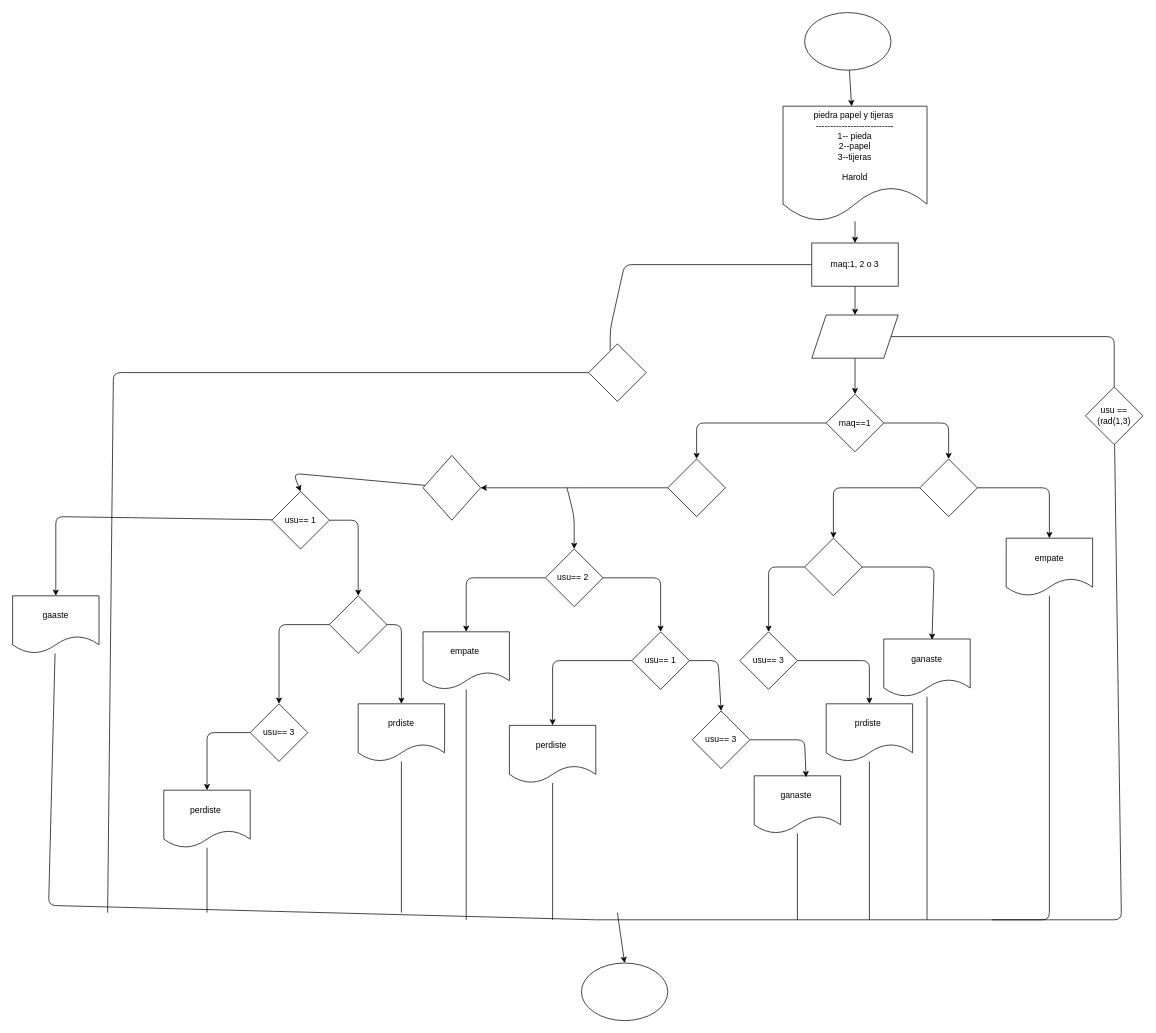
This 1156x1033 diagram has some shape labels left out. Here are the shapes that lost their labels. From the top down, the centre of each, then its label:
At (847,41): "inicio".
At (854,336): "usu: 1, 2 o 3".
At (617,372): "maq == (rad(1,3))".
At (451,487): "maq== 3".
At (696,487): "maq== 2".
At (948,487): "usu==1".
At (833,566): "usu==2".
At (358,624): "us== 2".
At (624,991): "fin".
